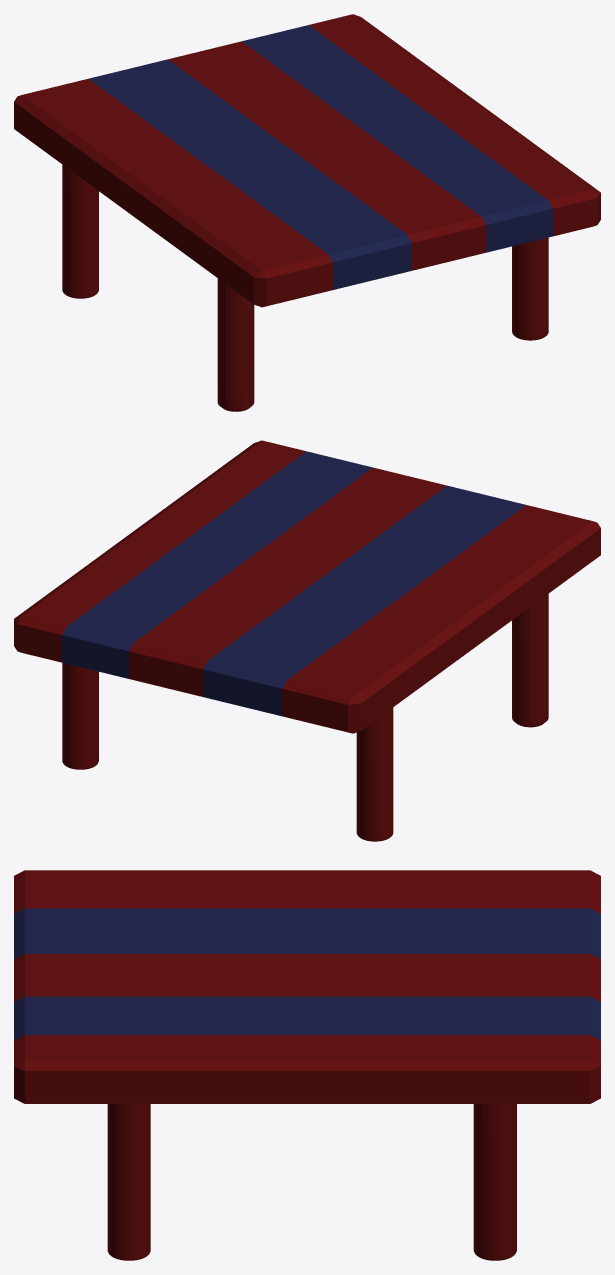
Rendered from table_final.fbx.
3 renders of one model, top to bottom at view 1: azimuth 30°, elevation 25°; view 2: azimuth 150°, elevation 25°; view 3: azimuth 270°, elevation 25°, orthographic. The views are drawn at different scales.
Parts seen in each view (by area): view 1: table_low (×2), leg1_low, leg2_low, leg4_low; view 2: table_low (×2), leg2_low, leg1_low, leg3_low; view 3: table_low (×2), leg4_low, leg3_low.
Part boxes in pixels (x1=…): table_low (×2): x1=14, y1=14, x2=600, y2=307; leg1_low: x1=217, y1=278, x2=254, y2=411; leg2_low: x1=62, y1=164, x2=98, y2=298; leg4_low: x1=512, y1=237, x2=548, y2=340; table_low (×2): x1=14, y1=440, x2=600, y2=733; leg2_low: x1=356, y1=707, x2=393, y2=841; leg1_low: x1=512, y1=594, x2=548, y2=727; leg3_low: x1=62, y1=663, x2=98, y2=769; table_low (×2): x1=14, y1=870, x2=600, y2=1103; leg4_low: x1=107, y1=1104, x2=150, y2=1260; leg3_low: x1=473, y1=1104, x2=516, y2=1260.
Bounding box in the file's own units: 356 × 168 × 442.
